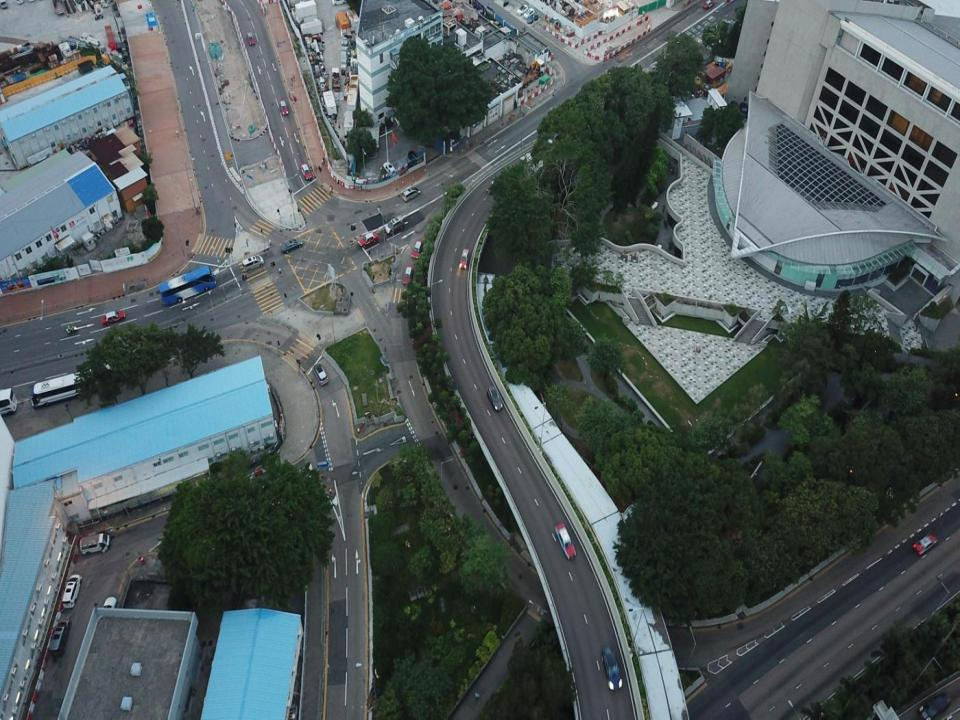bus: (31, 369, 106, 402), (158, 268, 218, 307), (0, 388, 18, 417)
car: (918, 689, 954, 719), (603, 645, 622, 690), (555, 521, 577, 557), (99, 596, 116, 630), (913, 532, 937, 556), (487, 385, 503, 413), (385, 215, 409, 232), (356, 231, 380, 246), (314, 364, 330, 384), (101, 310, 127, 322), (412, 238, 425, 262), (280, 236, 302, 250), (402, 185, 420, 202), (240, 256, 260, 270), (404, 263, 413, 289), (299, 161, 311, 179), (383, 160, 394, 177), (407, 152, 420, 166), (459, 248, 468, 268), (246, 32, 255, 47), (701, 0, 713, 10), (280, 100, 287, 117), (523, 8, 534, 18), (526, 14, 538, 23), (516, 4, 527, 12)
truck: (331, 66, 340, 90)
van: (60, 574, 82, 609), (79, 532, 111, 556), (49, 620, 70, 655)
